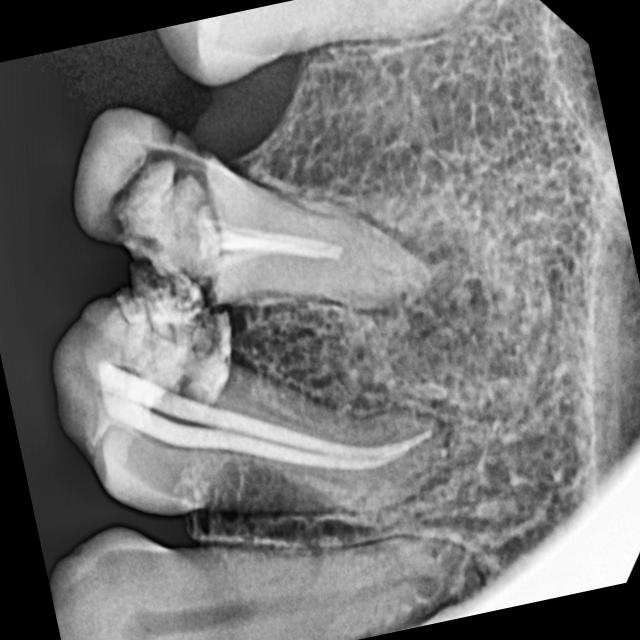Abcess: (398, 257, 512, 363)
Badly Decayed: (62, 77, 462, 339)
Overhang: (59, 113, 247, 423)
RCT: (158, 346, 462, 505)
